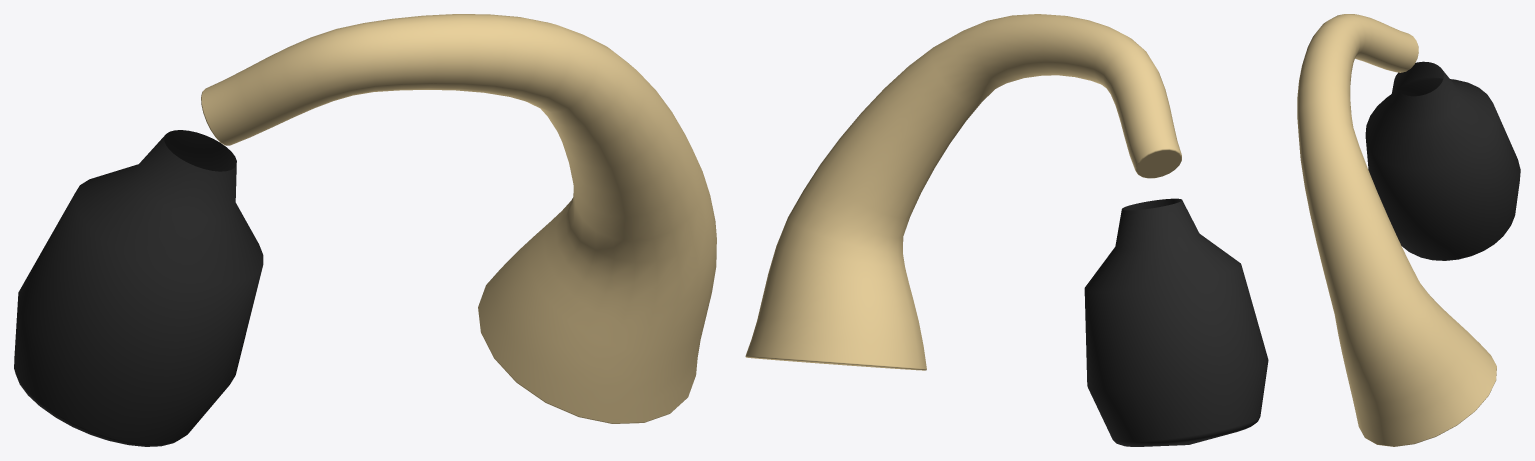
The model's file is bike_pioneer__horn.glb.
3 views of the same model, side by side, from view 1: azimuth 30°, elevation 25°; view 2: azimuth 150°, elevation 25°; view 3: azimuth 270°, elevation 25° (orthographic). The views are drawn at different scales.
Visible parts, largest first — view 1: electrical__horn__trumpet, electrical__horn__bulb; view 2: electrical__horn__trumpet, electrical__horn__bulb; view 3: electrical__horn__trumpet, electrical__horn__bulb.
Boxes of the visible parts, <box> form: electrical__horn__trumpet: <box>201,14,716,423</box>; electrical__horn__bulb: <box>14,130,263,446</box>; electrical__horn__trumpet: <box>745,14,1181,370</box>; electrical__horn__bulb: <box>1084,198,1268,446</box>; electrical__horn__trumpet: <box>1297,14,1496,446</box>; electrical__horn__bulb: <box>1365,61,1520,260</box>.
Bounding box in the file's own units: 19.12 × 13.7 × 8.77.
